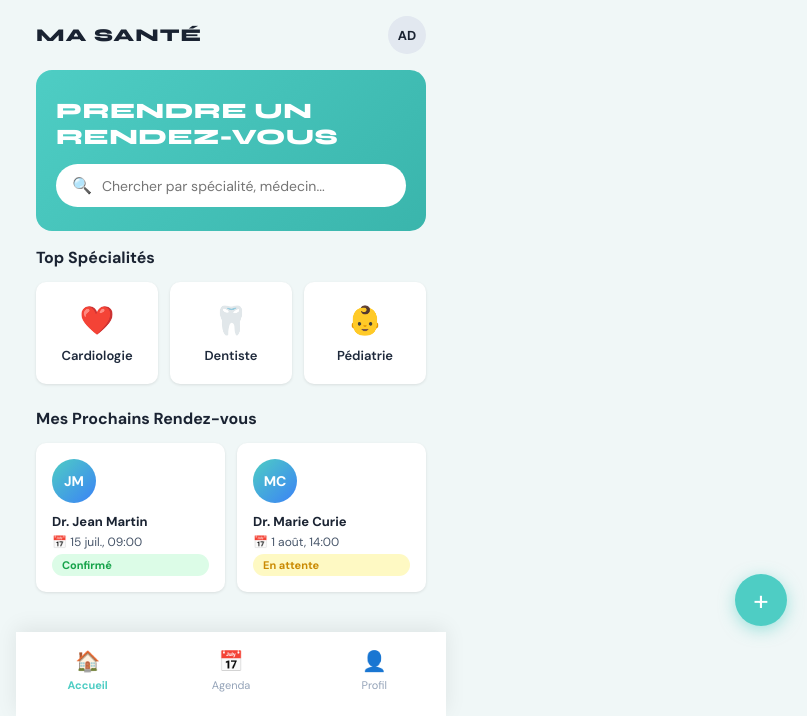
Scenario: search filters specialties
This screenshot has width=807, height=716.
Expected: the heading "Top Spécialités" is shown, x1=36 y1=247 x2=155 y2=268
Type "cardio" into the field with placeholder "Chercher par spécialité, médecin...".
click(246, 186); type("cardio")  # box x1=102 y1=176 x2=390 y2=194
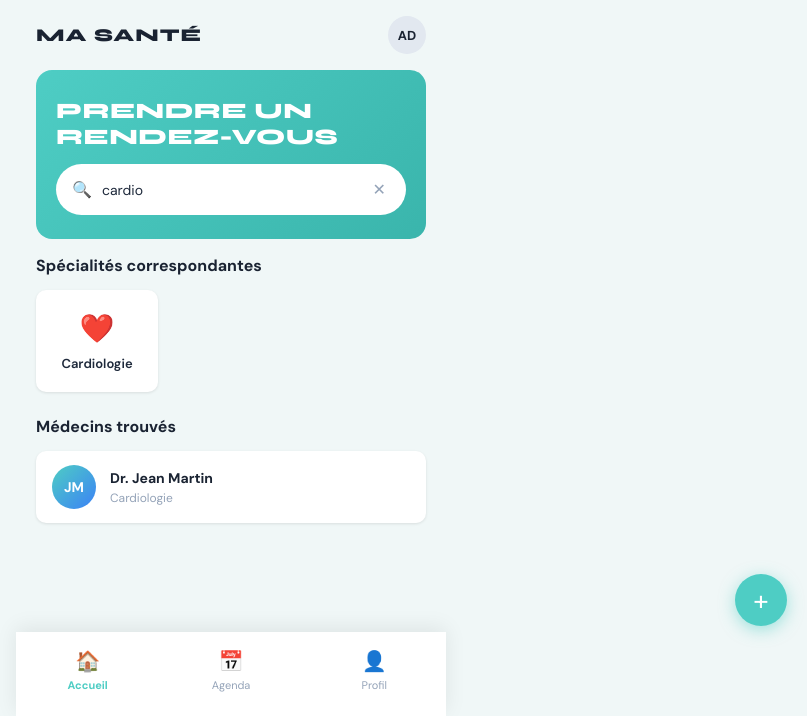
Expected: the heading "Spécialités correspondantes" is shown, x1=36 y1=255 x2=262 y2=276
Expected: the button "Dentiste" is gone
